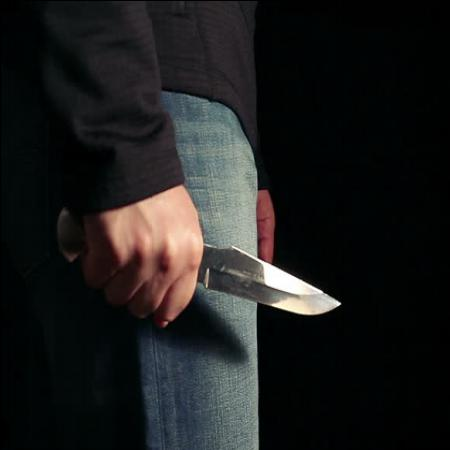long weapon: (149, 217, 356, 335)
